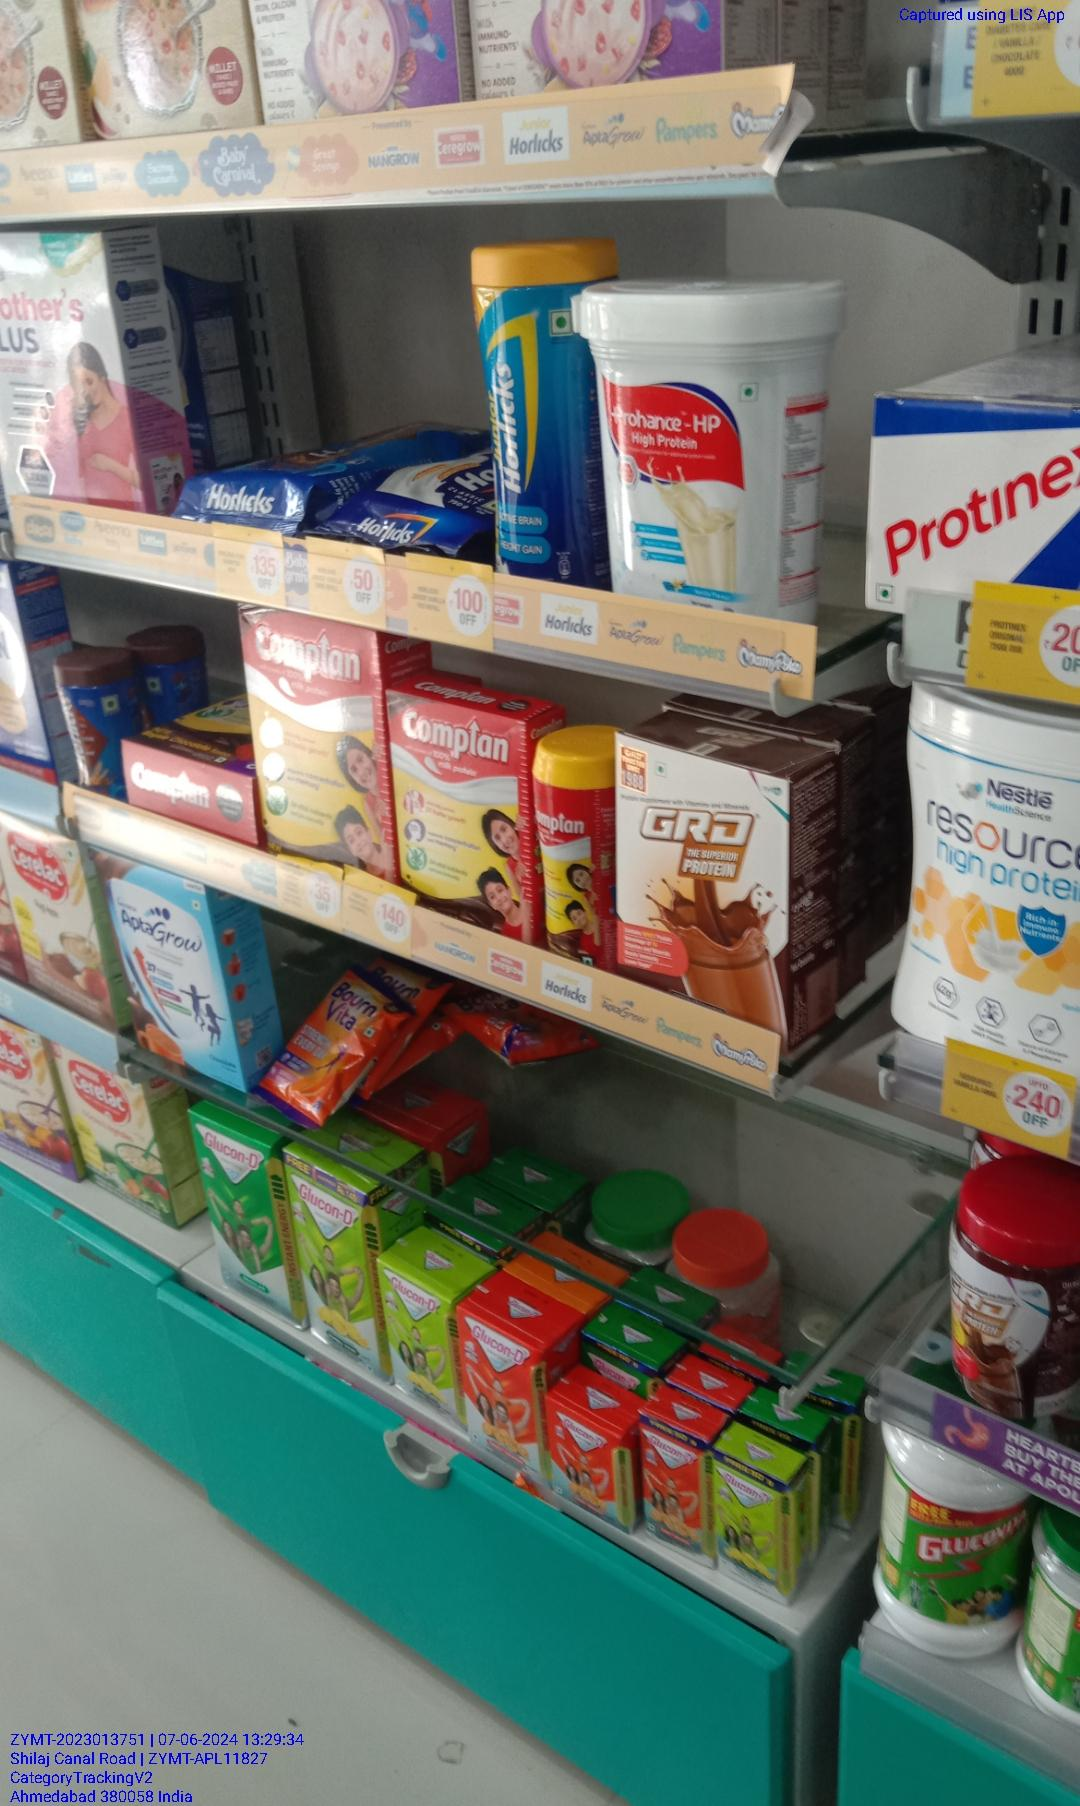COMPLAN_CHOCOLATE_200_GMS_JAR: (532, 735, 603, 960)
COMPLAN_CHOCOLATE_200_GMS_PACK: (384, 690, 521, 940)
HORLICK_CLASSIC_MALT_500_G_JAR: (469, 246, 582, 586)
